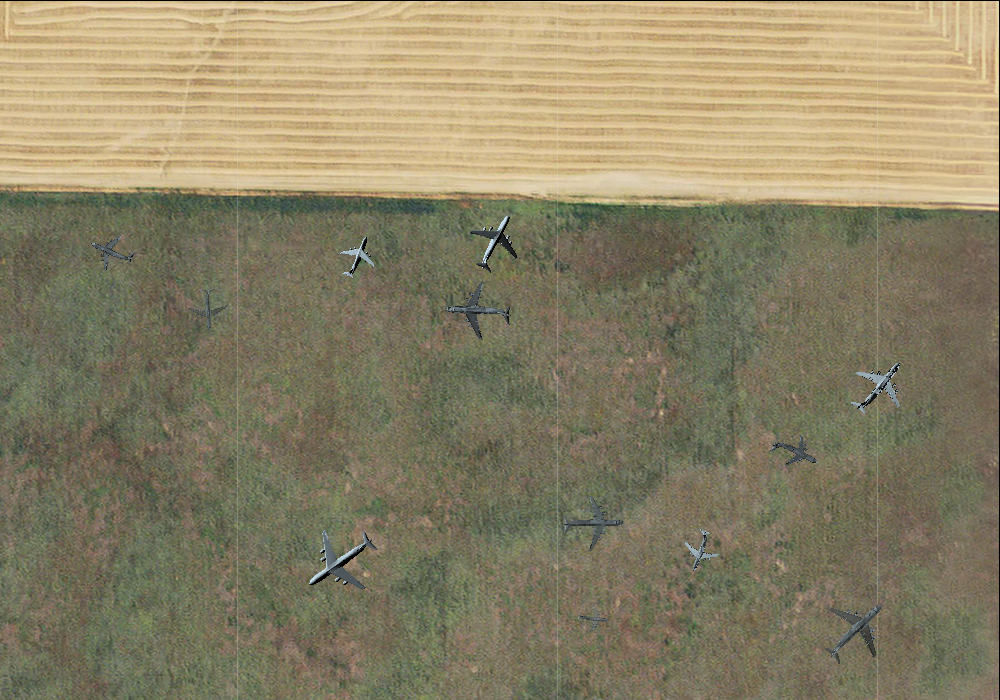plane: (288, 510, 393, 613), (805, 580, 907, 682), (835, 343, 922, 430), (455, 202, 535, 282), (444, 279, 512, 344), (763, 423, 826, 483), (562, 495, 624, 553), (82, 222, 140, 279), (329, 228, 384, 285), (673, 523, 726, 577), (186, 286, 229, 331), (575, 601, 611, 635)
